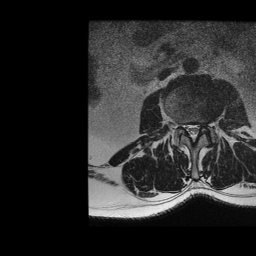CCS_normal: (190, 118, 196, 146)
LFS_severe_stenosis: (200, 116, 206, 132)
LLS_normal: (196, 117, 201, 136)
RFS_stenosis: (178, 116, 184, 134)
RLS_normal: (184, 117, 190, 137)
